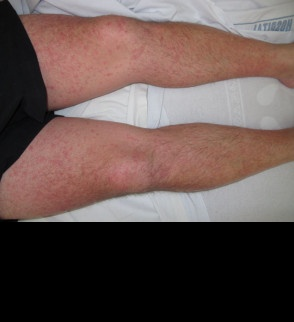SJS-TEN: (0, 102, 294, 229), (15, 0, 294, 117)
